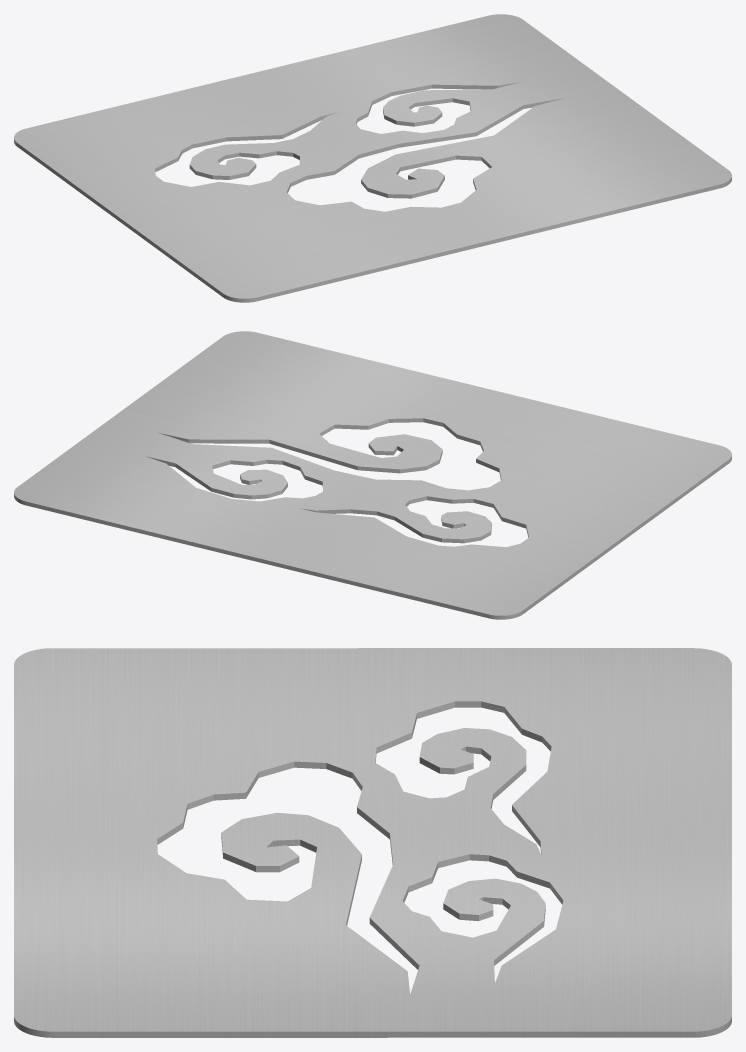
Rendered from cloud_steel_stencil.glb.
The picture shows the model from 3 angles, top to bottom: view 1: azimuth 30°, elevation 25°; view 2: azimuth 150°, elevation 25°; view 3: azimuth 270°, elevation 25°; orthographic projection. The views are drawn at different scales.
Visible parts, largest first — view 1: world; view 2: world; view 3: world.
Boxes of the visible parts, left/top/right/bottom form: world: left=14, top=14, right=731, bottom=302; world: left=14, top=331, right=731, bottom=619; world: left=14, top=648, right=731, bottom=1037.
Size of the model in its own units: 0.3216 by 0.0024 by 0.2544.
Materials: 1 (1 with a texture image).
